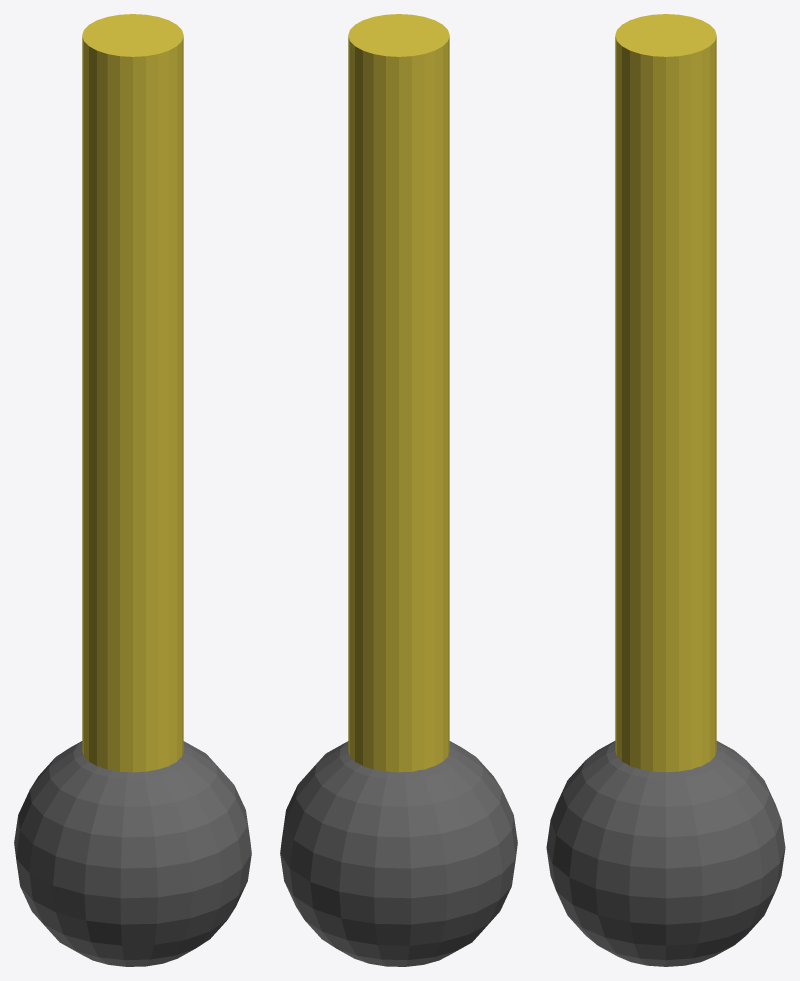
3 views of the same model, side by side, from view 1: azimuth 30°, elevation 25°; view 2: azimuth 150°, elevation 25°; view 3: azimuth 270°, elevation 25° (orthographic).
Visible parts, largest first — view 1: link2_mesh; view 2: link2_mesh; view 3: link2_mesh.
Boxes of the visible parts, x1,y1,x2,y2 form: link2_mesh: (14, 14, 251, 966); link2_mesh: (280, 14, 517, 966); link2_mesh: (546, 14, 785, 966).
Bounding box in the file's own units: 12 × 51 × 12.
